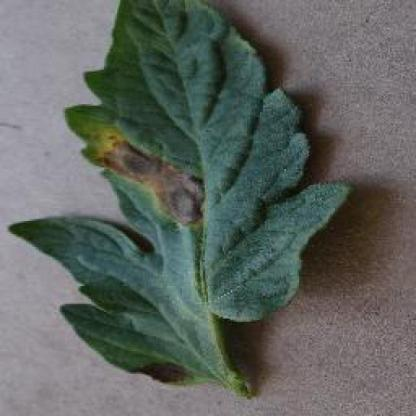Tomato_Blight: (8, 0, 353, 396)
